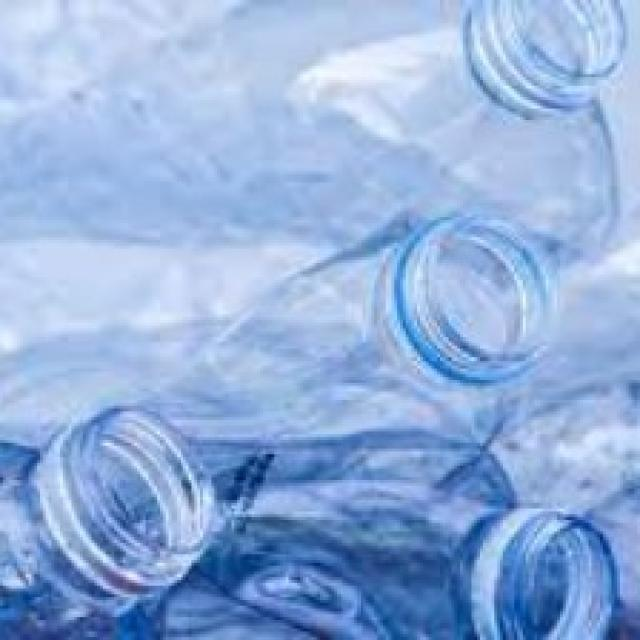plastic: (90, 362, 640, 640)
plastic_bottle: (40, 6, 640, 230), (110, 220, 551, 473), (1, 391, 211, 640)
